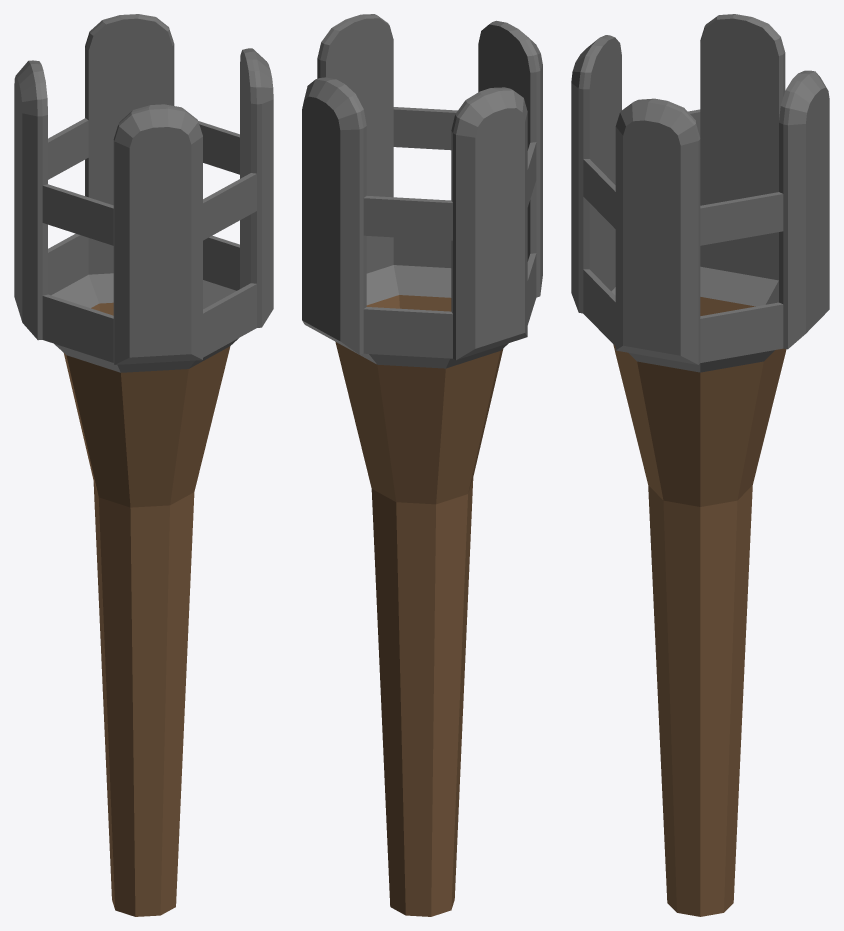
Rendered from Torch.fbx.
3 views of the same model, side by side, from view 1: azimuth 30°, elevation 25°; view 2: azimuth 150°, elevation 25°; view 3: azimuth 270°, elevation 25° (orthographic).
Visible parts, largest first — view 1: Torch; view 2: Torch; view 3: Torch.
Part boxes in pixels (bbox=[...]): Torch: bbox=[14, 14, 273, 916]; Torch: bbox=[302, 14, 542, 916]; Torch: bbox=[571, 14, 829, 916].
Bounding box in the file's own units: 0.796 × 2.87 × 0.796.
